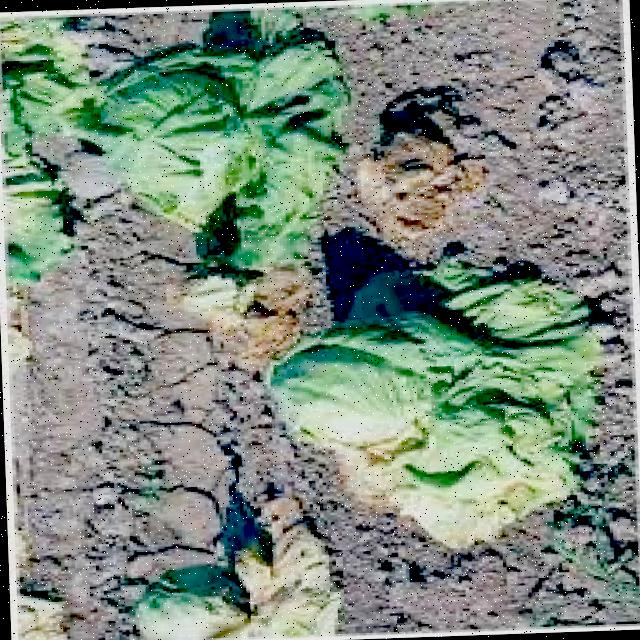Wilt_and_leaf_blight_on_lettuce: (265, 276, 590, 521)
